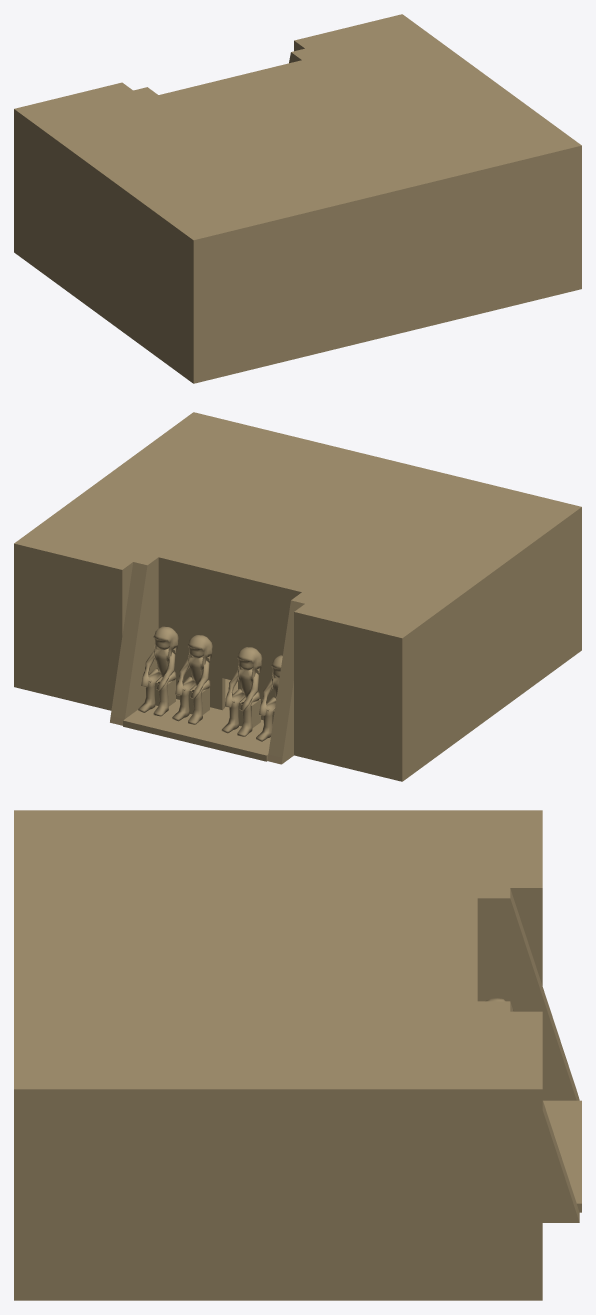
File: building.obj
3 renders of one model, top to bottom at view 1: azimuth 30°, elevation 25°; view 2: azimuth 150°, elevation 25°; view 3: azimuth 270°, elevation 25°, orthographic. The views are drawn at different scales.
Parts seen in each view (by area): view 1: Cube; view 2: Cube, body1.006; view 3: Cube.
Part boxes in pixels (x1,y1,x2,y2): Cube: [14, 14, 581, 383]; Cube: [14, 412, 581, 781]; body1.006: [138, 626, 282, 741]; Cube: [14, 810, 581, 1300].
Bounding box in the file's own units: 66.11 × 23.34 × 56.87.
Materials: 1 (1 with a texture image).
